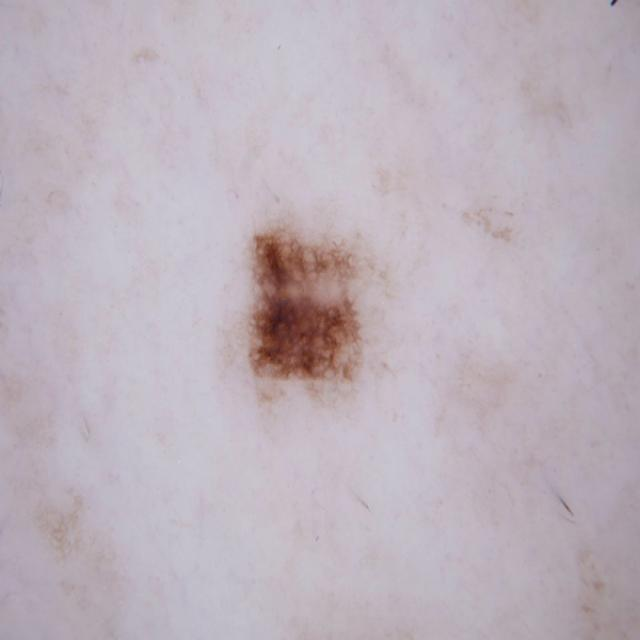Skin-Cancer Pigmented benign keratosis: (73, 65, 587, 569)
